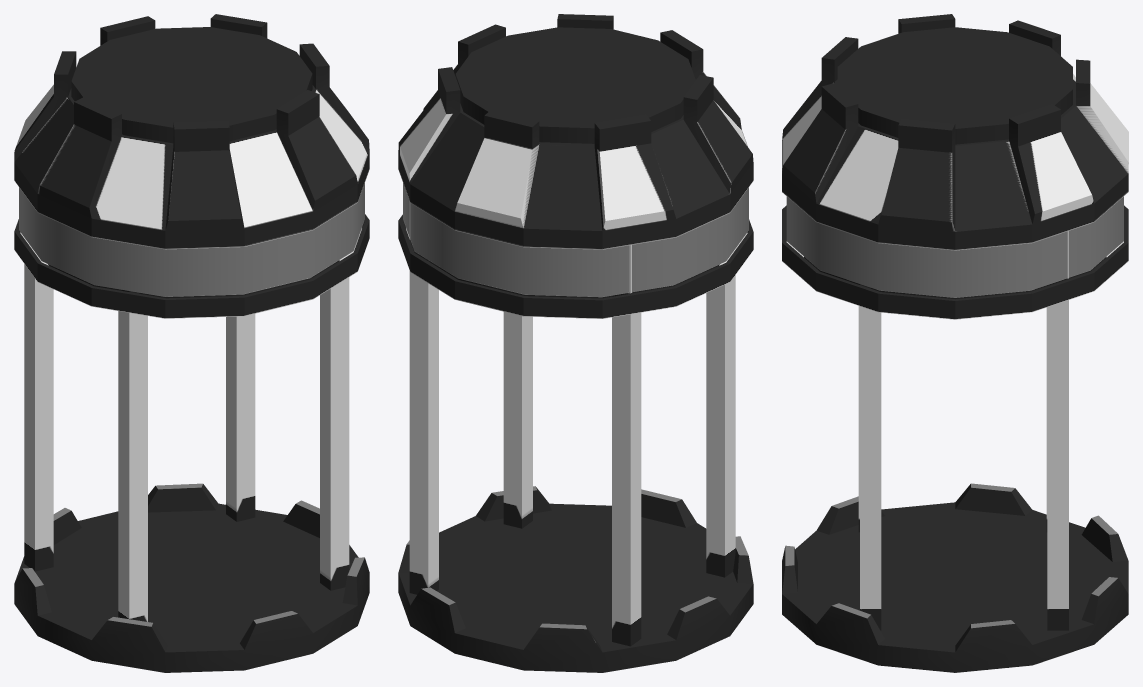
The model's file is Spawn_Point.fbx.
3 views of the same model, side by side, from view 1: azimuth 30°, elevation 25°; view 2: azimuth 150°, elevation 25°; view 3: azimuth 270°, elevation 25° (orthographic).
Visible parts, largest first — view 1: polySurface3, pCylinder2, polySurface1, pCube6, pCube5, pCube4, pCube2; view 2: polySurface3, pCylinder2, polySurface1, pCube4, pCube2, pCube6, pCube5; view 3: polySurface3, pCylinder2, polySurface1, pCube2, pCube5.
Part boxes in pixels (x1=…): polySurface3: x1=14, y1=14, x2=369, y2=318; pCylinder2: x1=14, y1=483, x2=369, y2=672; polySurface1: x1=19, y1=183, x2=364, y2=296; pCube6: x1=118, y1=289, x2=147, y2=621; pCube5: x1=320, y1=277, x2=349, y2=590; pCube4: x1=24, y1=264, x2=53, y2=571; pCube2: x1=226, y1=314, x2=255, y2=521; polySurface3: x1=398, y1=14, x2=753, y2=318; pCylinder2: x1=398, y1=486, x2=753, y2=672; polySurface1: x1=403, y1=183, x2=748, y2=297; pCube4: x1=612, y1=245, x2=641, y2=646; pCube2: x1=409, y1=202, x2=438, y2=594; pCube6: x1=706, y1=275, x2=735, y2=577; pCube5: x1=503, y1=312, x2=532, y2=528; polySurface3: x1=782, y1=14, x2=1128, y2=319; pCylinder2: x1=782, y1=483, x2=1128, y2=672; polySurface1: x1=786, y1=196, x2=1123, y2=297; pCube2: x1=1047, y1=231, x2=1068, y2=630; pCube5: x1=860, y1=284, x2=881, y2=630.
Bounding box in the file's own units: 8.35 × 13.66 × 8.15.
